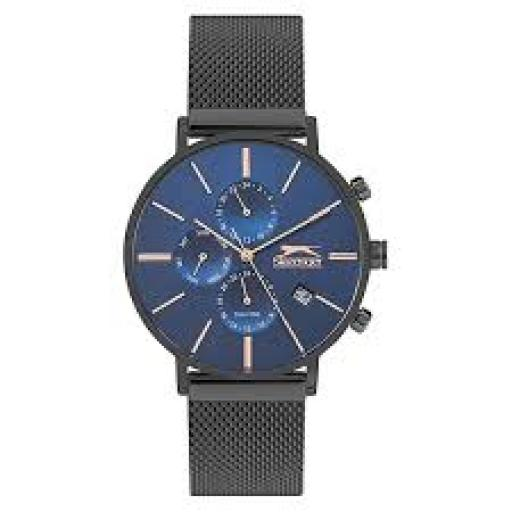KolSaati: (123, 6, 432, 506)
